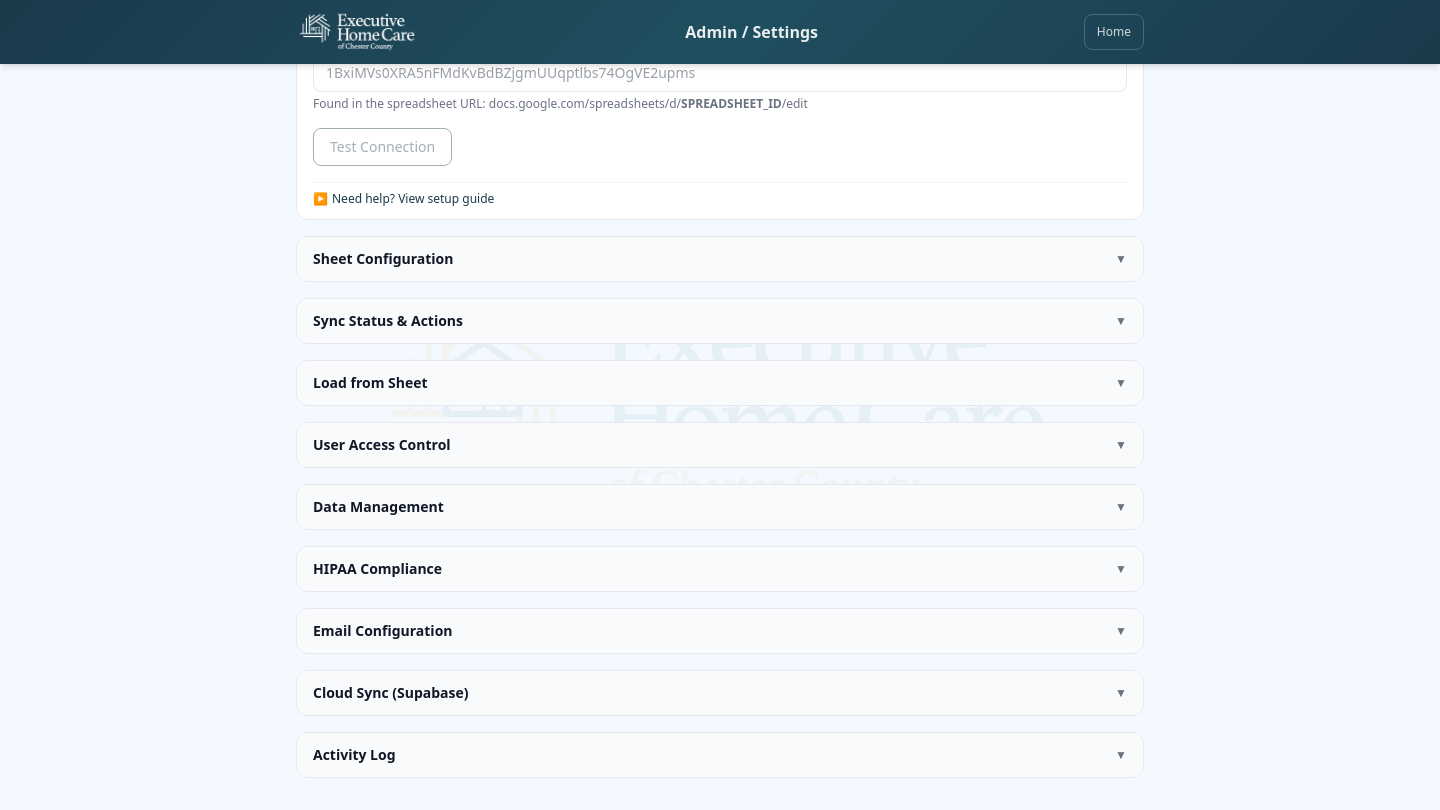
SettingsScreen › Supabase org info › shows user role badge as "Admin" for admin role
(page scrolled)
Click the text "Cloud Sync (Supabase)" at point(391, 693), box [313,683,468,703]
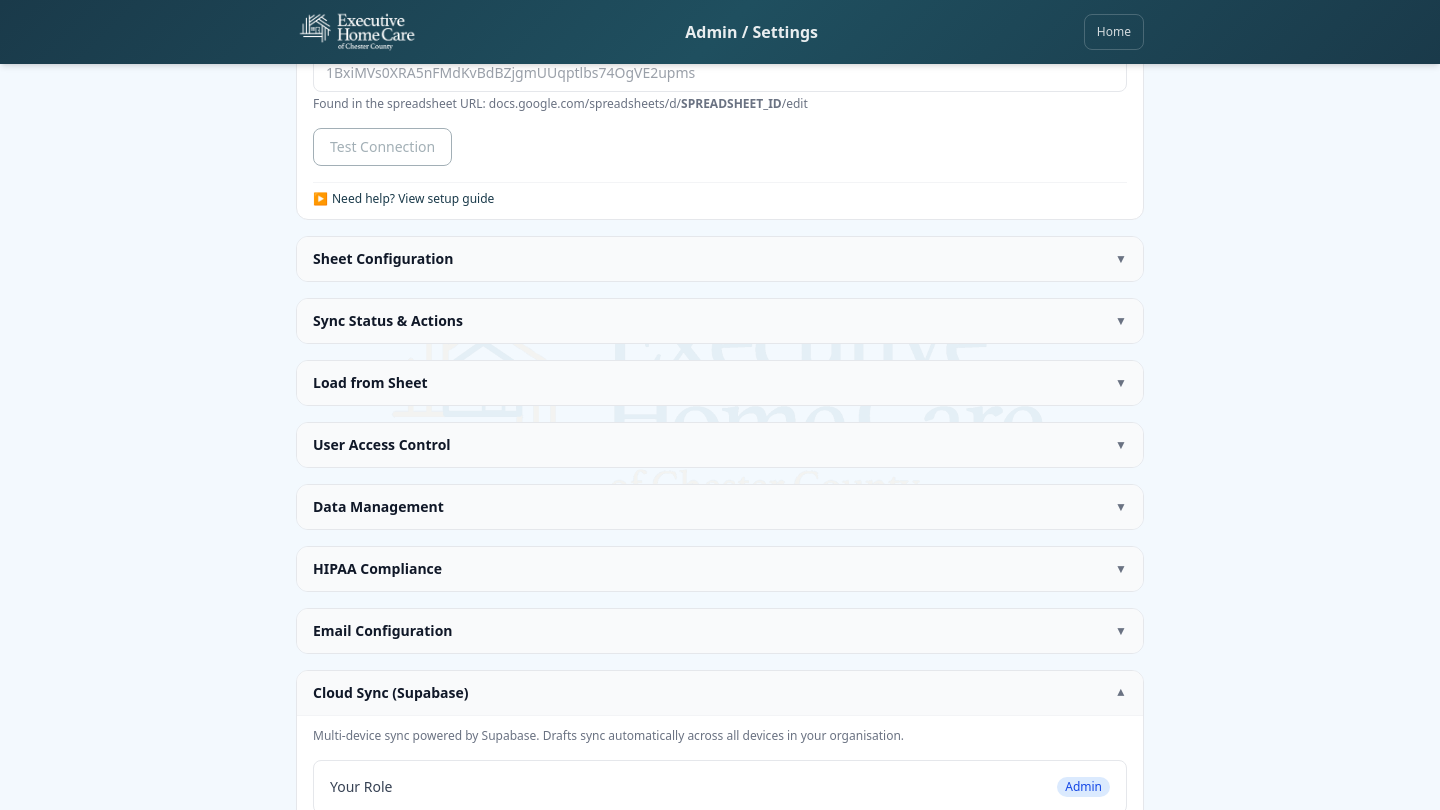
Check: the text "Admin" is shown, box [1057,777,1110,797]
